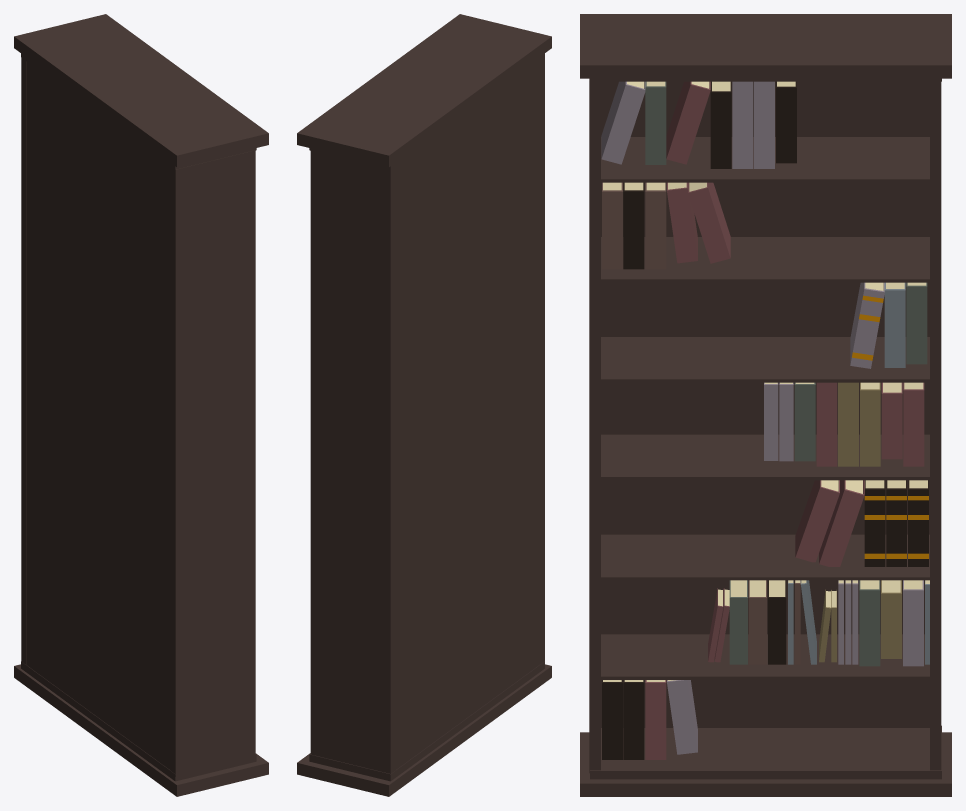
File: TallBookshelfArrangement1.fbx
The picture shows the model from 3 angles, left to right: view 1: azimuth 30°, elevation 25°; view 2: azimuth 150°, elevation 25°; view 3: azimuth 270°, elevation 25°; orthographic projection. The views are drawn at different scales.
Visible parts, largest first — view 1: Cube.009, Cube.002, Cube.001, Cube.065, Cube.003, Cube.004, Cube.008; view 2: Cube.009, Cube.003, Cube.001, Cube.065, Cube.002, Cube.004, Cube.008; view 3: Cube.009, Cube.001, Cube.004, Cube.056, Cube.011, Cube.006, Cube.007, Cube.010, Cube.005, Cube.002, Cube.003, Cube.065 (+41 smaller).
Part boxes in pixels (<box>): Cube.009: <box>26,62,170,770</box>; Cube.002: <box>170,150,255,776</box>; Cube.001: <box>14,14,268,167</box>; Cube.065: <box>14,664,268,796</box>; Cube.003: <box>21,58,26,664</box>; Cube.004: <box>21,661,256,781</box>; Cube.008: <box>21,53,256,169</box>; Cube.009: <box>396,61,539,769</box>; Cube.003: <box>310,151,395,773</box>; Cube.001: <box>297,14,551,167</box>; Cube.065: <box>297,664,551,796</box>; Cube.002: <box>540,57,544,664</box>; Cube.004: <box>309,661,544,781</box>; Cube.008: <box>309,53,544,169</box>; Cube.009: <box>601,81,929,727</box>; Cube.001: <box>580,14,951,78</box>; Cube.004: <box>590,725,941,779</box>; Cube.056: <box>601,337,929,382</box>; Cube.011: <box>601,237,929,282</box>; Cube.006: <box>601,534,929,580</box>; Cube.007: <box>601,434,929,480</box>; Cube.010: <box>601,137,929,182</box>; Cube.005: <box>601,634,929,679</box>; Cube.002: <box>589,78,600,773</box>; Cube.003: <box>930,81,941,770</box>; Cube.065: <box>580,732,951,796</box>.
Size of the model in its own units: 102 by 682 by 314.
